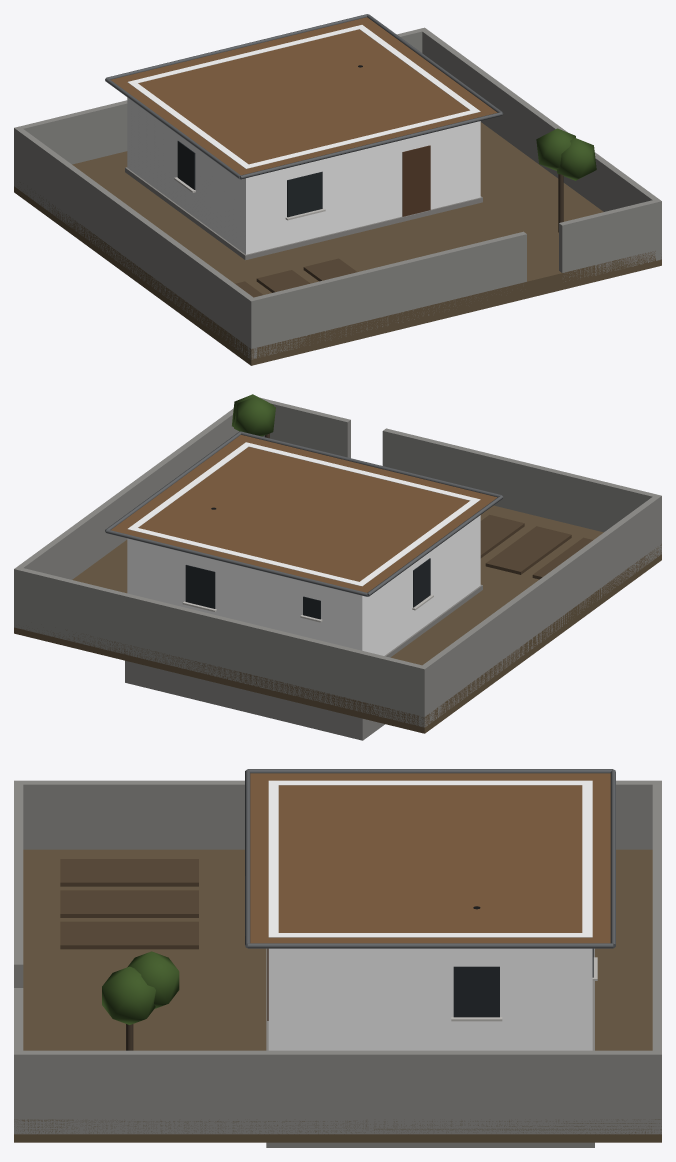
The model's file is bina_10_alt.glb.
The picture shows the model from 3 angles, top to bottom: view 1: azimuth 30°, elevation 25°; view 2: azimuth 150°, elevation 25°; view 3: azimuth 270°, elevation 25°; orthographic projection. The views are drawn at different scales.
Visible parts, largest first — view 1: P10_alt; view 2: P10_alt; view 3: P10_alt.
Boxes of the visible parts, x1=… form: P10_alt: x1=14, y1=14, x2=661, y2=365; P10_alt: x1=14, y1=394, x2=661, y2=740; P10_alt: x1=14, y1=769, x2=661, y2=1147.
Size of the model in its own units: 14 by 5.2 by 14.
